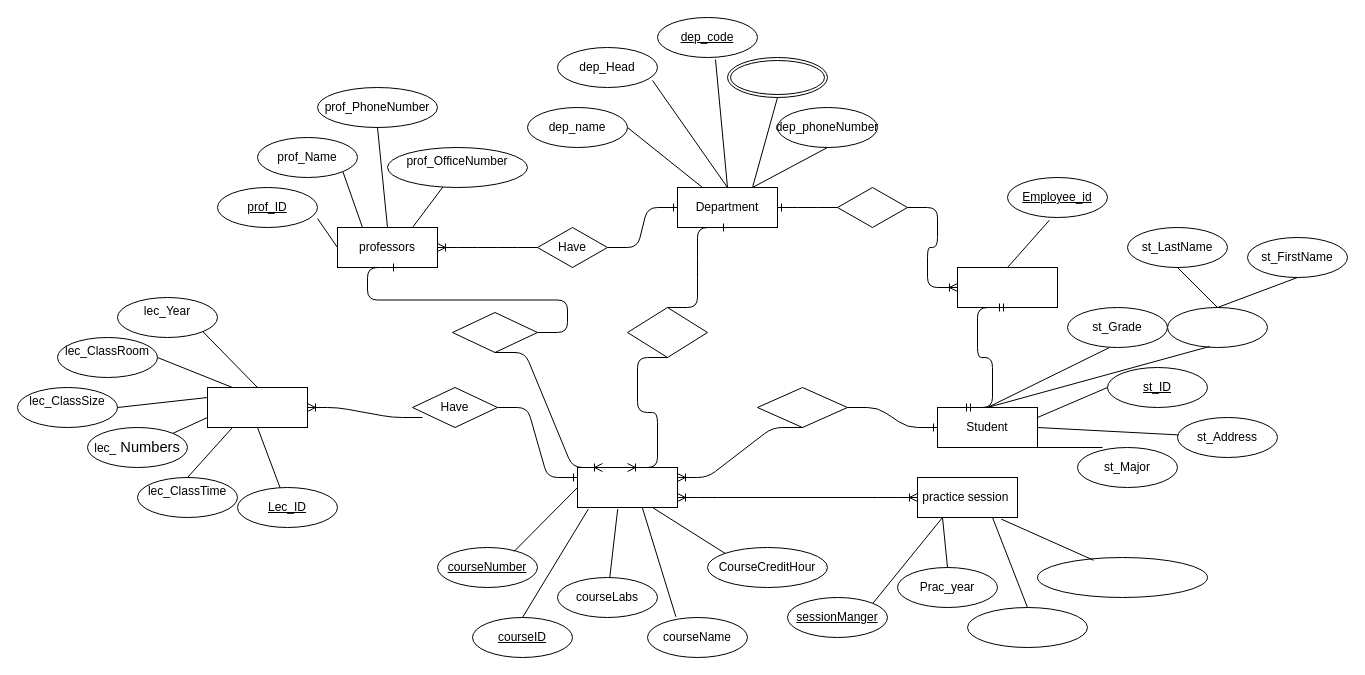
This 1365x675 diagram has some shape labels left out. Here are the shapes that lost their labels. From the top down, the centre of each, then its label:
At (x=777, y=77): "dep_Location".
At (x=872, y=207): "Emplyee".
At (x=1007, y=287): "Faculty".
At (x=495, y=332): "teach".
At (x=667, y=332): "offer".
At (x=1217, y=327): "st_Name".
At (x=257, y=407): "Lectures".
At (x=802, y=407): "Enroll".
At (x=627, y=487): "Courses".
At (x=1122, y=577): "prac_ studentAssessment".
At (x=1027, y=627): "prac_studentAttend".
